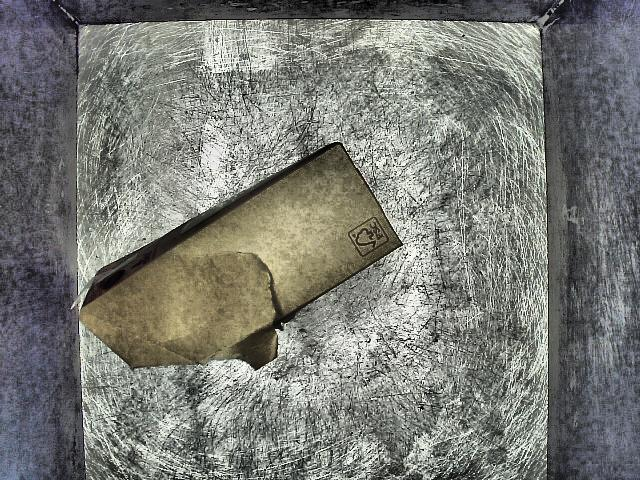Paper: (70, 137, 414, 375)
